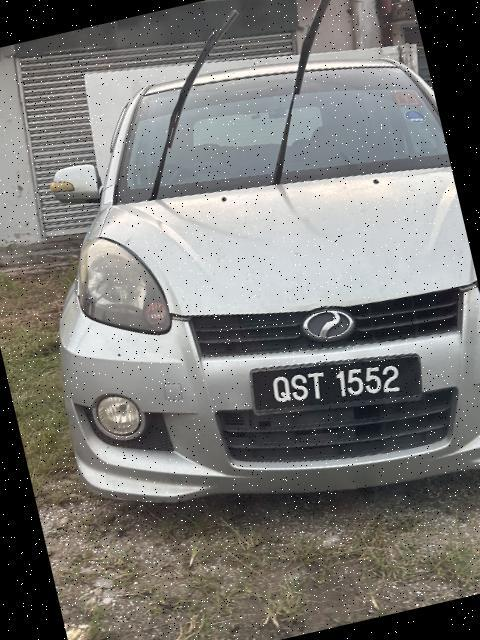License_Plate: (243, 331, 431, 444)
QST1552: (243, 331, 431, 444)
car: (1, 20, 480, 581)
